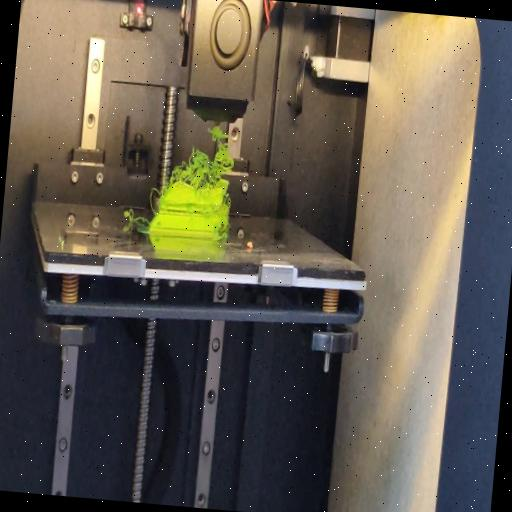spaghetti: (170, 121, 238, 192), (122, 208, 148, 224), (149, 186, 160, 212), (216, 229, 228, 241)
